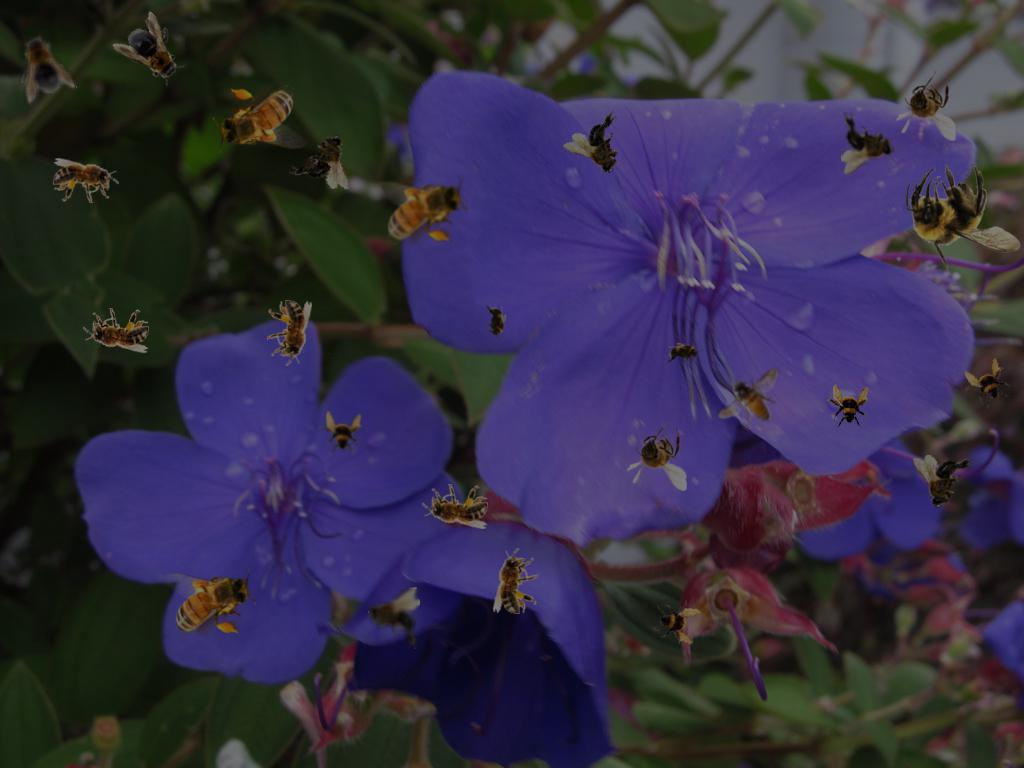Bee: (906, 164, 1021, 271), (111, 9, 197, 95), (560, 107, 643, 187), (213, 85, 306, 153), (375, 177, 468, 245), (163, 569, 256, 637), (4, 24, 78, 108), (708, 366, 792, 435), (287, 125, 362, 193), (895, 71, 956, 141), (626, 421, 687, 491), (957, 354, 1017, 414), (367, 587, 420, 649), (913, 455, 975, 508), (841, 112, 894, 174), (53, 158, 119, 203), (267, 300, 312, 366), (422, 484, 488, 529), (83, 308, 149, 353), (493, 548, 538, 614), (651, 595, 703, 647), (826, 384, 870, 428), (319, 411, 363, 455), (664, 342, 704, 364), (485, 302, 507, 342)
